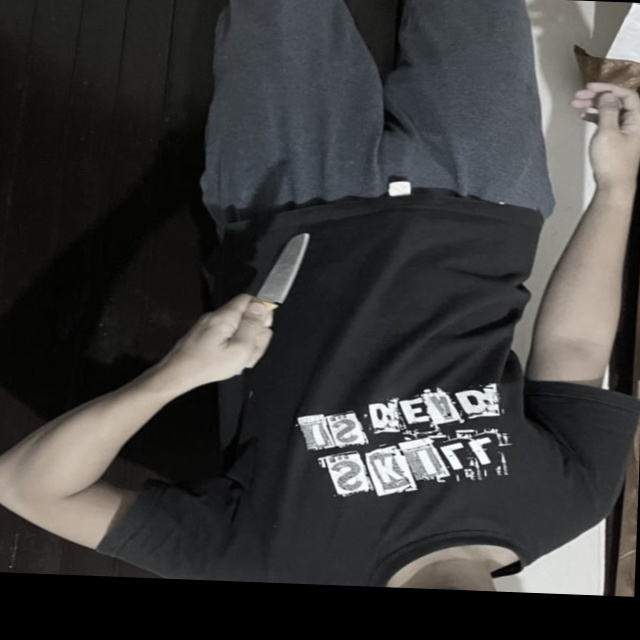Sharp-Object: (250, 228, 312, 314)
